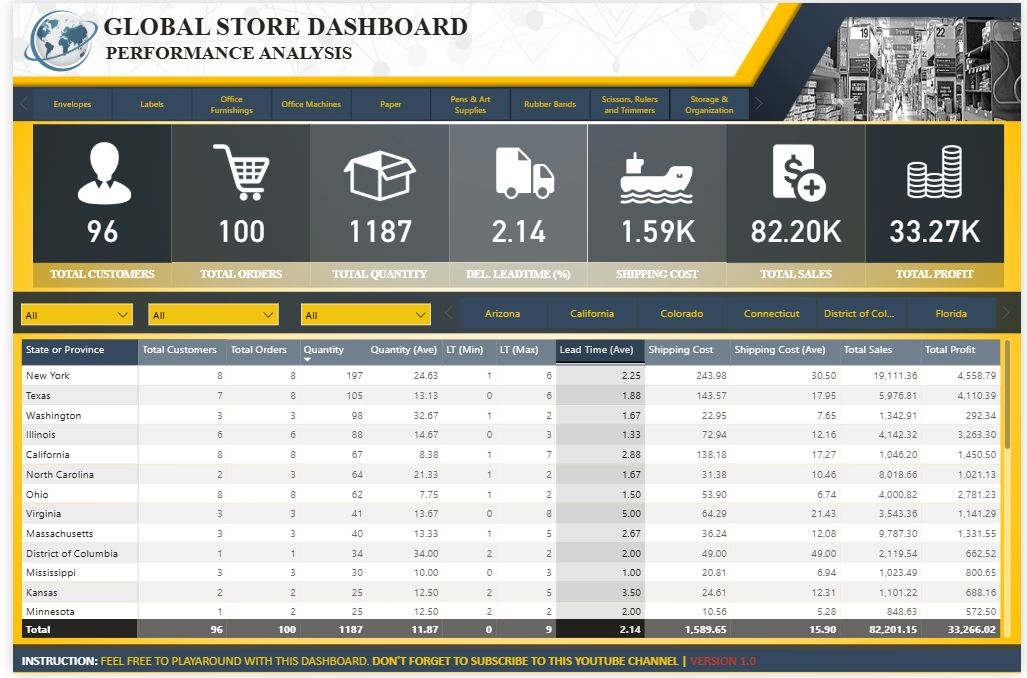

Layout of this report page (visuals, bound fields, positions):
{"tool":"powerbi","page":{"name":"Global Store Dashboard","canvas":[1280,850],"ordinal":0},"visuals":[{"type":"basicShape","box":[0,814,1280,15],"z":0},{"type":"basicShape","box":[1082,154,176,176],"z":1000},{"type":"basicShape","box":[906,154,176,176],"z":2000},{"type":"basicShape","box":[730.8,154.3,176.5,175.5],"z":3000},{"type":"basicShape","box":[554.3,154.3,175.5,175.5],"z":4000},{"type":"basicShape","box":[377,154.3,177.4,175.5],"z":5000},{"type":"basicShape","box":[201.4,154.3,175.5,175.5],"z":6000},{"type":"basicShape","box":[26,154,176,176],"z":7000},{"type":"textbox","box":[109,7,491,50],"z":8000},{"type":"textbox","box":[112,45,367,38],"z":9000},{"type":"image","box":[6,0,109,99],"z":10000},{"type":"slicer","fields":{"Values":["tblOrders.Product Sub-Category"]},"box":[0,101,958,53],"z":11000},{"type":"image","box":[72,170,90,92],"z":12000},{"type":"image","box":[235,175,110,82],"z":13000},{"type":"image","box":[414,165,103,92],"z":14000},{"type":"image","box":[590,174,120,83],"z":15000},{"type":"image","box":[745,158,146,101],"z":16000},{"type":"image","box":[943,170,102,87],"z":17000},{"type":"image","box":[1125,175,90,79],"z":18000},{"type":"textbox","box":[26,330,176,31],"z":19000},{"type":"textbox","box":[202,330,176,31],"z":20000},{"type":"textbox","box":[378,330,176,31],"z":21000},{"type":"textbox","box":[554,330,176,31],"z":22000},{"type":"textbox","box":[730,330,176,31],"z":23000},{"type":"textbox","box":[906,330,176,31],"z":24000},{"type":"textbox","box":[1082,330,176,31],"z":25000},{"type":"card","fields":{"Values":["Count(tblOrders.Customer ID)"]},"box":[26,249,176,75],"z":26000},{"type":"card","fields":{"Values":["CountNonNull(tblOrders.Order ID)"]},"box":[202,249,176,75],"z":27000},{"type":"card","fields":{"Values":["Sum(tblOrders.Quantity ordered new)"]},"box":[378,249,176,75],"z":28000},{"type":"card","fields":{"Values":["Avg(tblOrders.Delivery Lead Time)"]},"box":[554,249,176,75],"z":29000},{"type":"card","fields":{"Values":["Sum(tblOrders.Shipping Cost)"]},"box":[730,249,176,75],"z":30000},{"type":"card","fields":{"Values":["Sum(tblOrders.Sales)"]},"box":[906,249,176,75],"z":31000},{"type":"card","fields":{"Values":["Sum(tblOrders.Profit)"]},"box":[1082,249,176,75],"z":32000},{"type":"basicShape","box":[0,366,1280,53],"z":33000},{"type":"slicer","fields":{"Values":["tblOrders.Order Date.Variation.Date Hierarchy.Year"]},"box":[0,371,162,45],"z":34000},{"type":"slicer","fields":{"Values":["tblOrders.State or Province"]},"box":[540,366,732,53],"z":35000},{"type":"slicer","fields":{"Values":["tblOrders.Order Date.Variation.Date Hierarchy.Month"]},"box":[162,371,185,45],"z":36000},{"type":"slicer","fields":{"Values":["tblOrders.Region"]},"box":[355,371,185,45],"z":37000},{"type":"pivotTable","fields":{"Rows":["tblOrders.State or Province"],"Values":["Count(tblOrders.Customer ID)","CountNonNull(tblOrders.Order ID)","Sum(tblOrders.Quantity ordered new)","Avg(tblOrders.Quantity ordered new)","Min(tblOrders.Delivery Lead Time)2","Max(tblOrders.Delivery Lead Time)1","Avg(tblOrders.Delivery Lead Time)","Sum(tblOrders.Shipping Cost)","Avg(tblOrders.Shipping Cost)","Sum(tblOrders.Sales)","Sum(tblOrders.Profit)"]},"box":[7,423,1266,389],"z":38000},{"type":"basicShape","box":[0,821,1280,29],"z":39000},{"type":"textbox","box":[7,820,973,30],"z":40000}]}

Visuals, with their boxes in screenshot pixels (x1, y1, x2, y2), scaled from the page's 1280x850 canvas onto the 1027x678 screenshot:
basicShape: select_region(0, 649, 1026, 661)
basicShape: select_region(868, 123, 1009, 263)
basicShape: select_region(727, 123, 868, 263)
basicShape: select_region(586, 123, 728, 263)
basicShape: select_region(445, 123, 586, 263)
basicShape: select_region(302, 123, 445, 263)
basicShape: select_region(162, 123, 302, 263)
basicShape: select_region(21, 123, 162, 263)
textbox: select_region(87, 6, 481, 45)
textbox: select_region(90, 36, 384, 66)
image: select_region(5, 0, 92, 79)
slicer - tblOrders.Product Sub-Category: select_region(0, 81, 769, 123)
image: select_region(58, 136, 130, 209)
image: select_region(189, 140, 277, 205)
image: select_region(332, 132, 415, 205)
image: select_region(473, 139, 570, 205)
image: select_region(598, 126, 715, 207)
image: select_region(757, 136, 838, 205)
image: select_region(903, 140, 975, 203)
textbox: select_region(21, 263, 162, 288)
textbox: select_region(162, 263, 303, 288)
textbox: select_region(303, 263, 444, 288)
textbox: select_region(444, 263, 586, 288)
textbox: select_region(586, 263, 727, 288)
textbox: select_region(727, 263, 868, 288)
textbox: select_region(868, 263, 1009, 288)
card - Count(tblOrders.Customer ID): select_region(21, 199, 162, 258)
card - CountNonNull(tblOrders.Order ID): select_region(162, 199, 303, 258)
card - Sum(tblOrders.Quantity ordered new): select_region(303, 199, 444, 258)
card - Avg(tblOrders.Delivery Lead Time): select_region(444, 199, 586, 258)
card - Sum(tblOrders.Shipping Cost): select_region(586, 199, 727, 258)
card - Sum(tblOrders.Sales): select_region(727, 199, 868, 258)
card - Sum(tblOrders.Profit): select_region(868, 199, 1009, 258)
basicShape: select_region(0, 292, 1026, 334)
slicer - tblOrders.Order Date.Variation.Date Hierarchy.Year: select_region(0, 296, 130, 332)
slicer - tblOrders.State or Province: select_region(433, 292, 1021, 334)
slicer - tblOrders.Order Date.Variation.Date Hierarchy.Month: select_region(130, 296, 278, 332)
slicer - tblOrders.Region: select_region(285, 296, 433, 332)
pivotTable - tblOrders.State or Province x Count(tblOrders.Customer ID): select_region(6, 337, 1021, 648)
basicShape: select_region(0, 655, 1026, 677)
textbox: select_region(6, 654, 786, 677)
